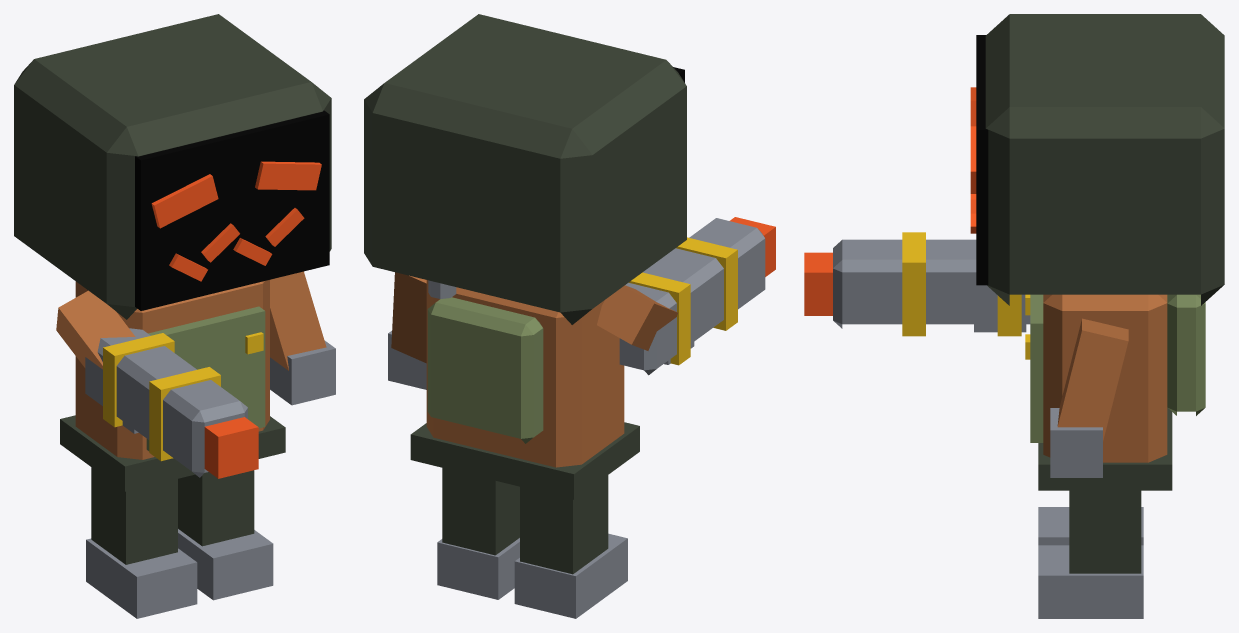
File: gunner_r7.glb
3 renders of one model, left to right at view 1: azimuth 30°, elevation 25°; view 2: azimuth 150°, elevation 25°; view 3: azimuth 270°, elevation 25°, orthographic. The views are drawn at different scales.
Parts seen in each view (by area): view 1: gunner_r7_mesh; view 2: gunner_r7_mesh; view 3: gunner_r7_mesh.
Part boxes in pixels (box(x1,y1,x2,y2)): gunner_r7_mesh: box(14, 14, 335, 618); gunner_r7_mesh: box(364, 14, 775, 618); gunner_r7_mesh: box(804, 14, 1224, 618).
Bounding box in the file's own units: 0.8467 × 1.6 × 1.16.
1 material, 1 textured.
